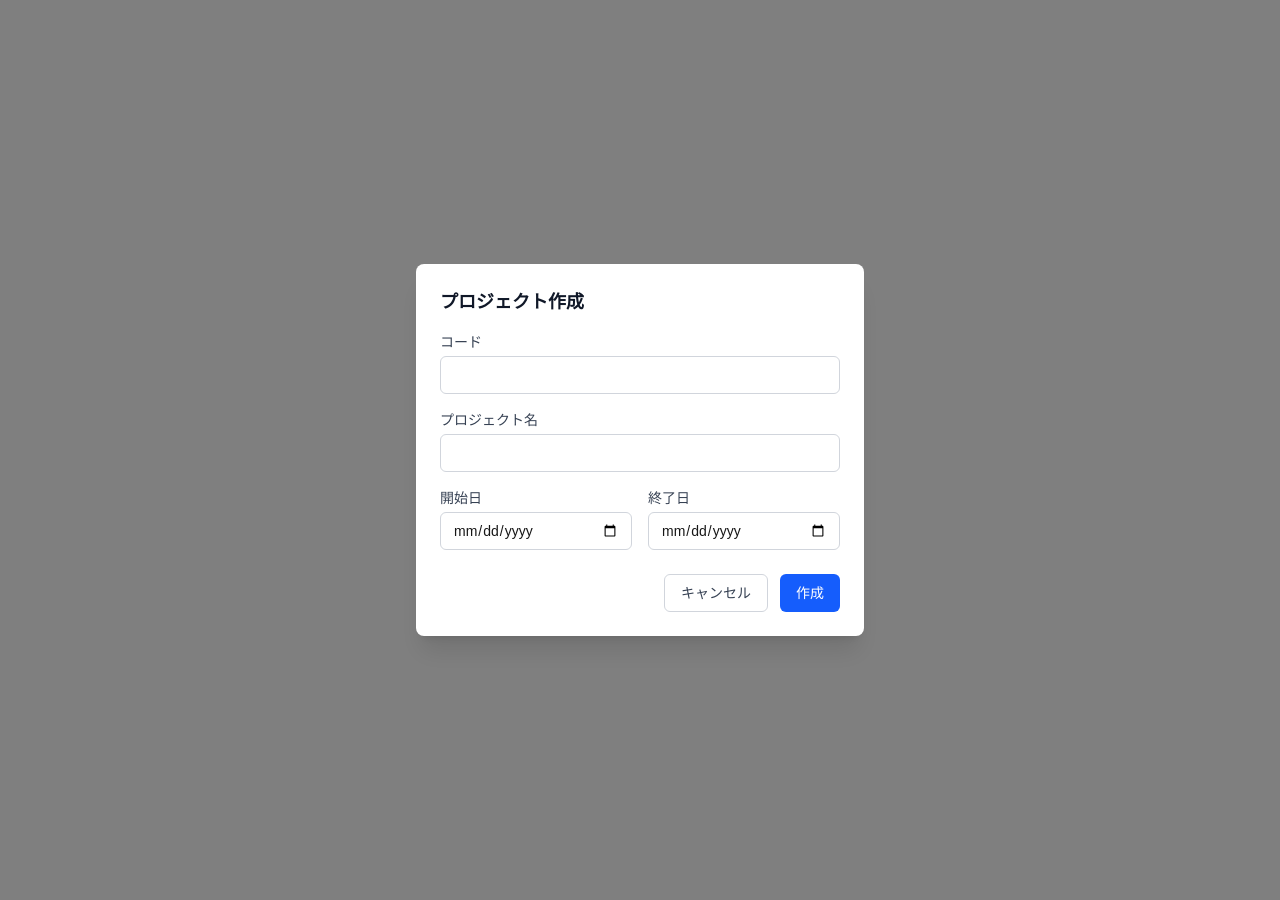
Test: ProjectForm › shows API error message on failure
The image size is (1280, 900).
Type "DUP" into the field labelled "コード".
click(640, 375); type("DUP")  # box [440,356,840,394]
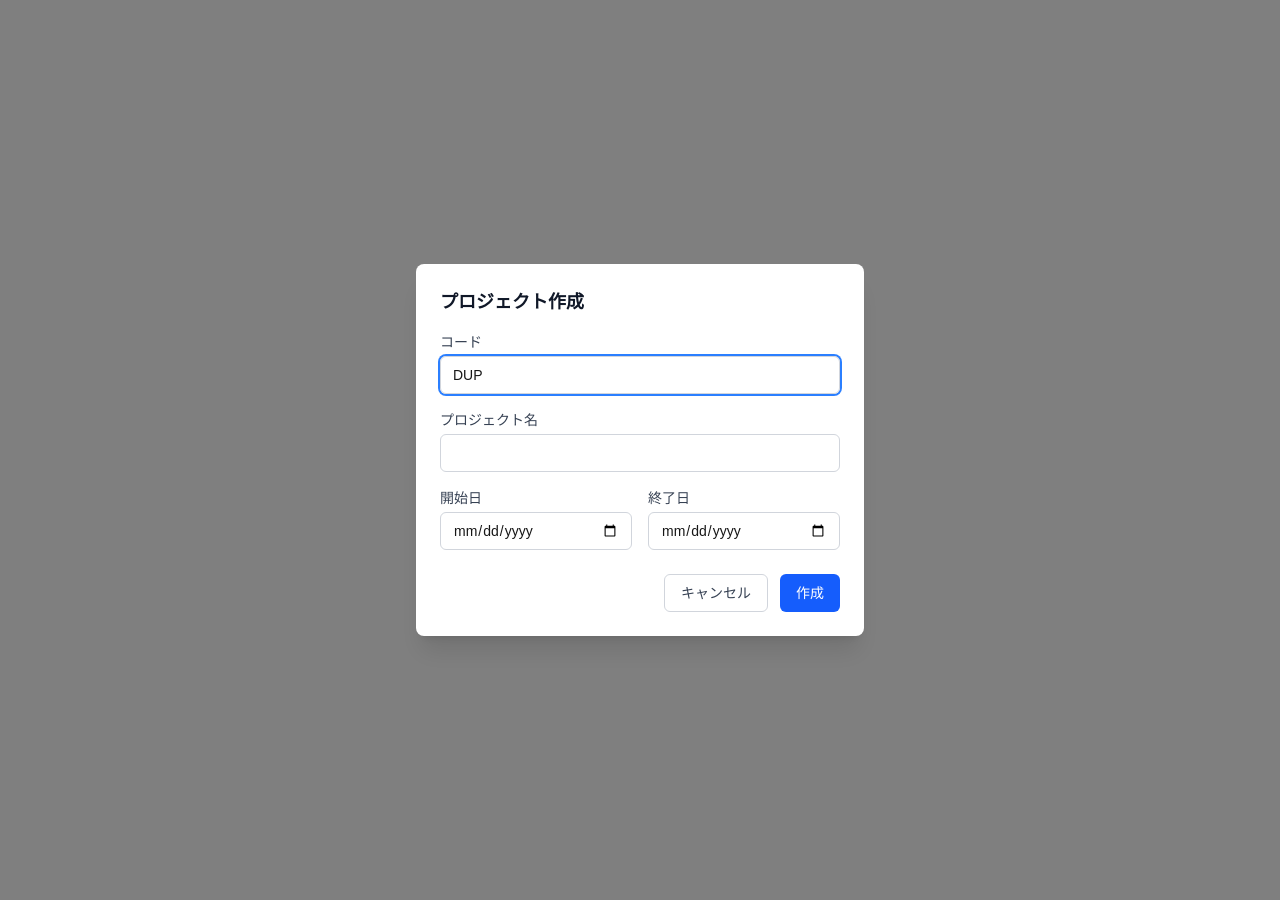
Type "Duplicate" into the field labelled "プロジェクト名".
click(640, 453); type("Duplicate")  # box [440,434,840,472]
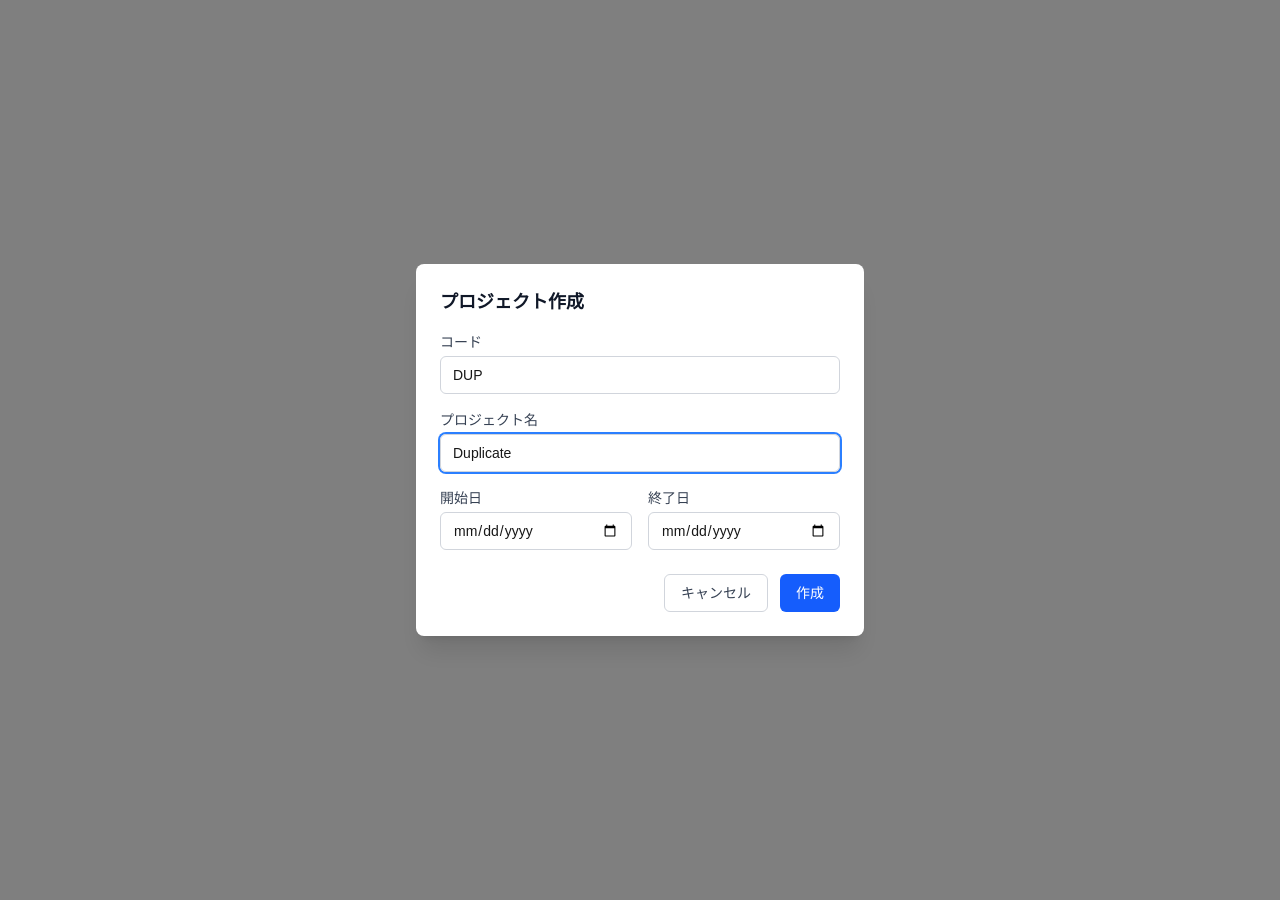
Click the button "作成".
click(810, 593)  # box [780,574,840,612]
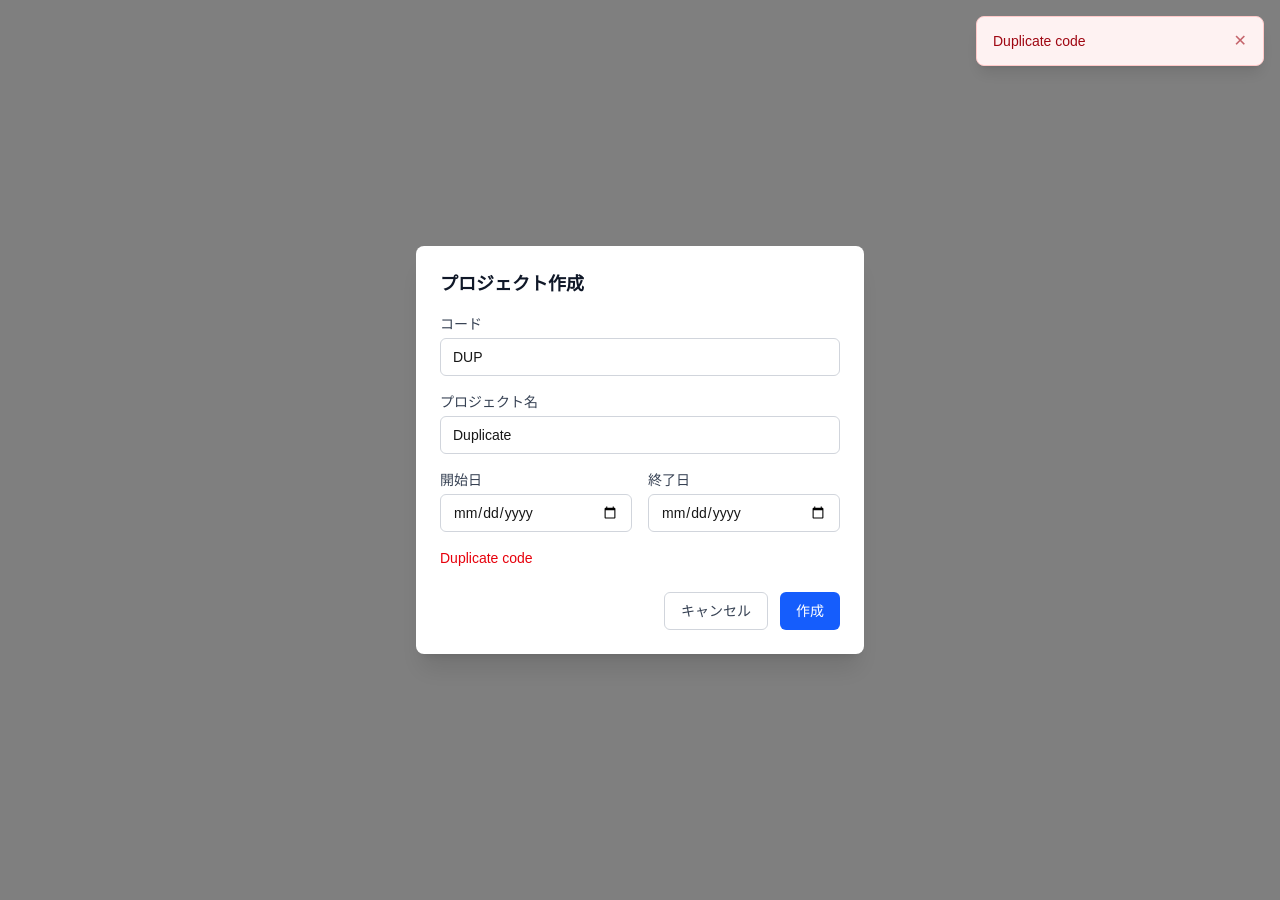
Expected: the text "Duplicate code" below "開始日" is shown, [440,550,533,566]
